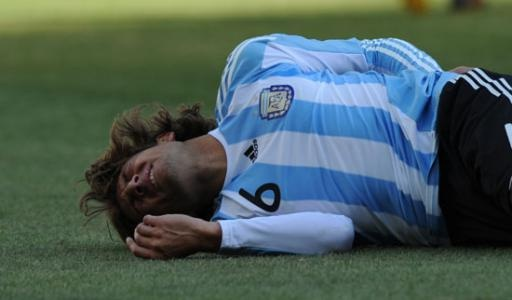falling: (77, 8, 502, 264)
